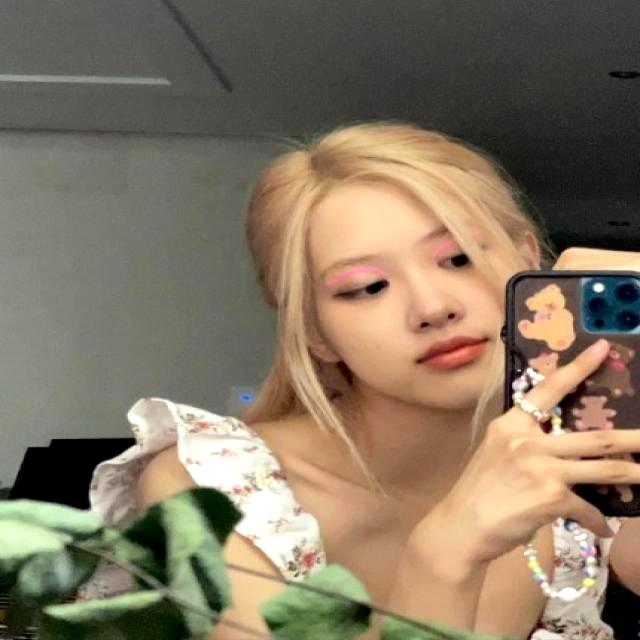lens_back: (615, 282, 640, 305), (618, 307, 637, 334), (588, 296, 611, 314)
phone: (499, 265, 640, 520)
